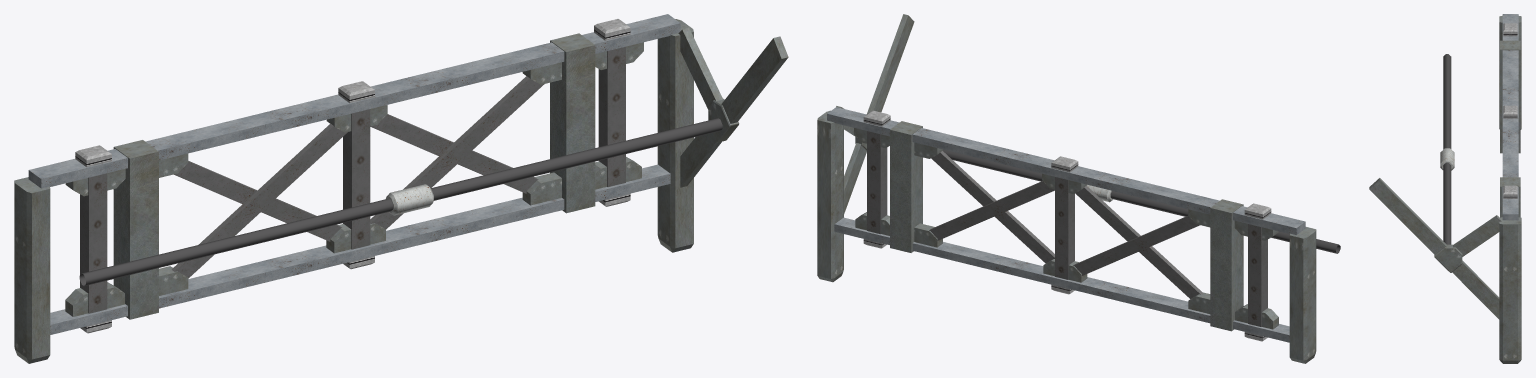
Rendered from Ob_FloatingSupport2_RC.fbx.
3 views of the same model, side by side, from view 1: azimuth 30°, elevation 25°; view 2: azimuth 150°, elevation 25°; view 3: azimuth 270°, elevation 25° (orthographic). The views are drawn at different scales.
Parts seen in each view (by area): view 1: Ob_FloatingSupport2_RC; view 2: Ob_FloatingSupport2_RC; view 3: Ob_FloatingSupport2_RC.
Part boxes in pixels (x1,y1,x2,y2): Ob_FloatingSupport2_RC: [14, 14, 788, 363]; Ob_FloatingSupport2_RC: [817, 14, 1340, 363]; Ob_FloatingSupport2_RC: [1369, 14, 1521, 363].
Size of the model in its own units: 2591 by 1054 by 800.
